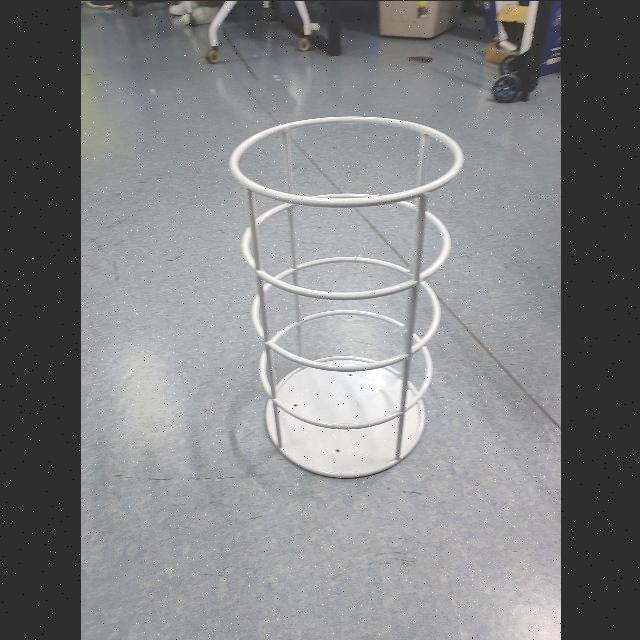S: (223, 110, 467, 482)
